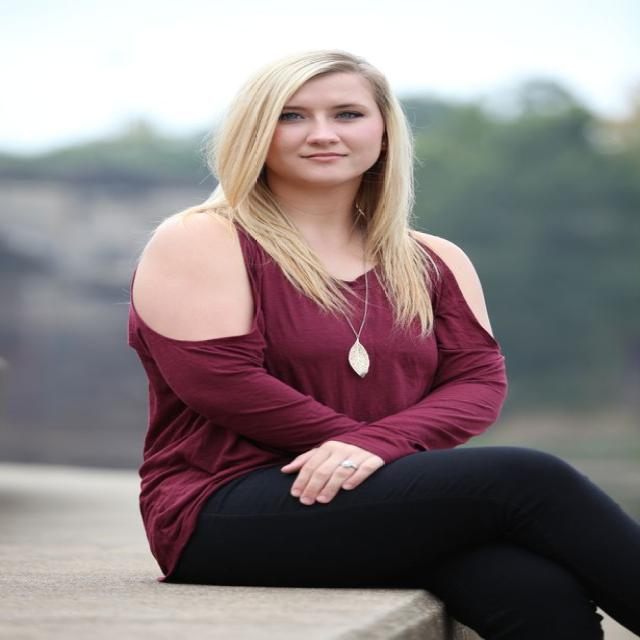human: (118, 49, 640, 640)
